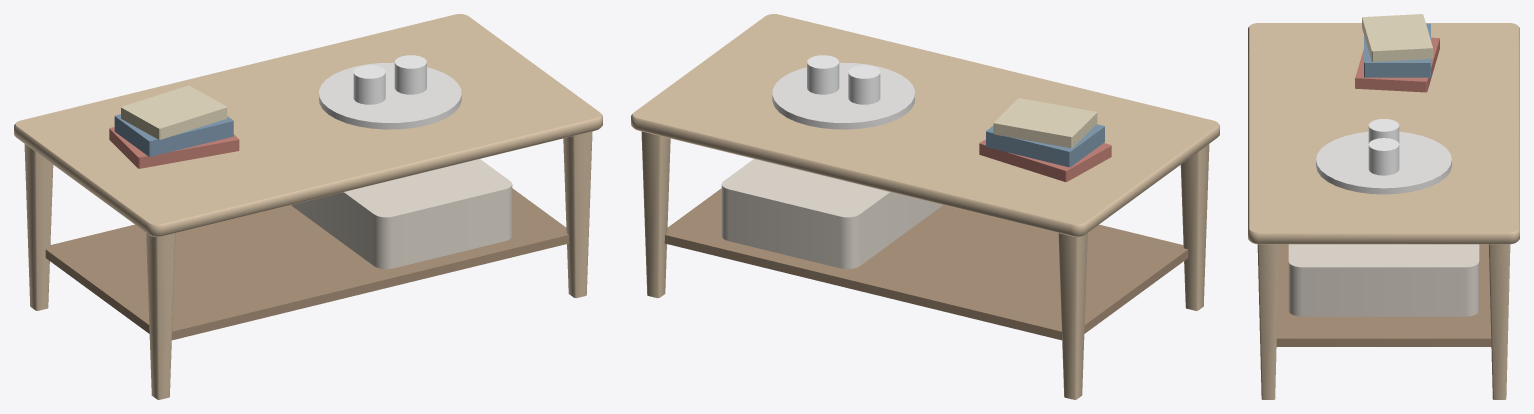
The picture shows the model from 3 angles, left to right: view 1: azimuth 30°, elevation 25°; view 2: azimuth 150°, elevation 25°; view 3: azimuth 270°, elevation 25°; orthographic projection. The views are drawn at different scales.
Visible parts, largest first — view 1: Bàn trà Dài=1100; Rộng=600; view 2: Bàn trà Dài=1100; Rộng=600; view 3: Bàn trà Dài=1100; Rộng=600.
Part boxes in pixels (x1,y1,x2,y2): Bàn trà Dài=1100; Rộng=600: [14, 14, 602, 399]; Bàn trà Dài=1100; Rộng=600: [631, 14, 1219, 399]; Bàn trà Dài=1100; Rộng=600: [1248, 14, 1519, 399].
Bounding box in the file's own units: 1.1 × 0.508 × 0.6.
